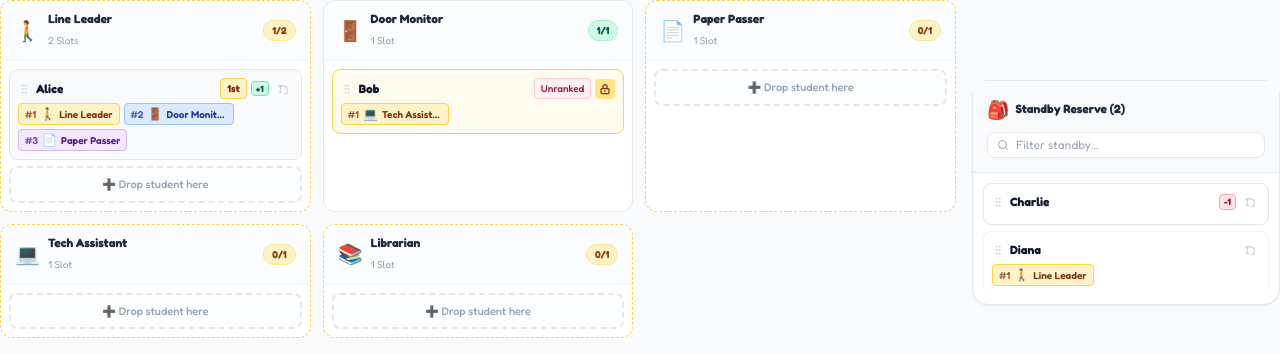
it: AssignmentBoard Tooltip › shows "No previous jobs" for student without history
The width and height of the screenshot is (1280, 355).
expect the text "Diana" is shown: met, box [1010, 242, 1041, 257]
Hover over the card
Hover over the text "Diana".
mouse_move(1126, 262)  # box [983, 231, 1269, 294]
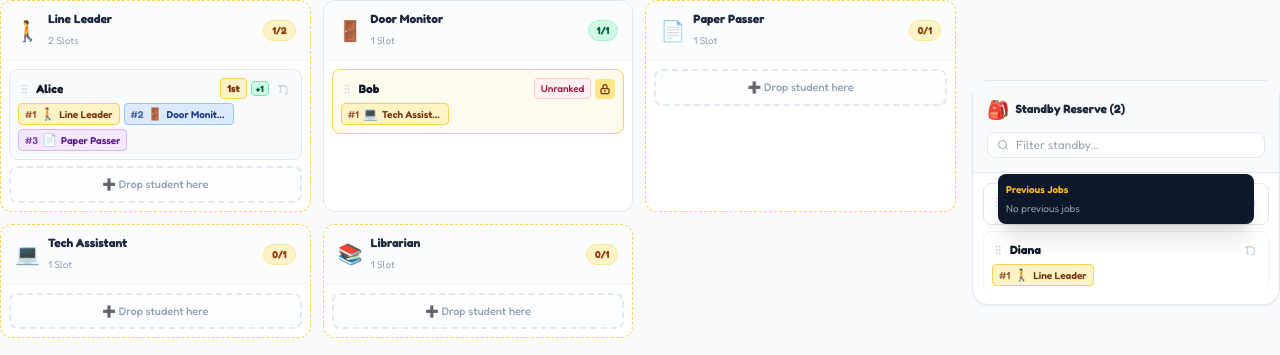
expect the element showing "Previous Jobs No previous jobs" is shown: met, box [998, 174, 1254, 224]
